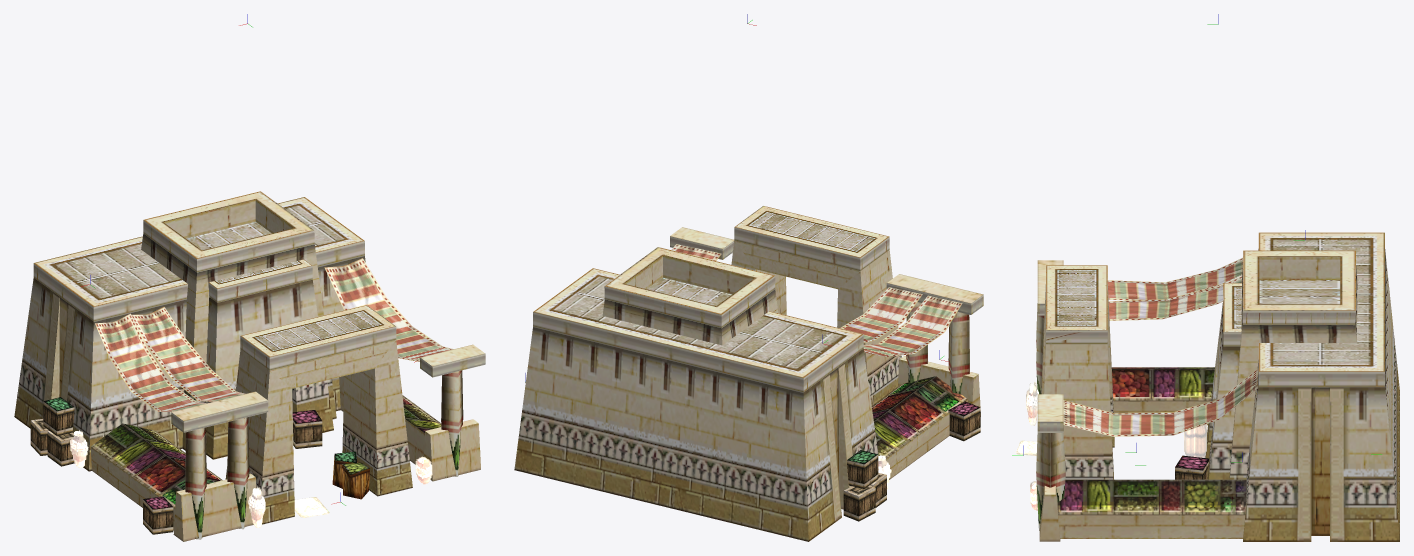
Rendered from mythic.glb.
3 views of the same model, side by side, from view 1: azimuth 30°, elevation 25°; view 2: azimuth 150°, elevation 25°; view 3: azimuth 270°, elevation 25° (orthographic). The views are drawn at different scales.
Visible parts, largest first — view 1: building e market age4Model; view 2: building e market age4Model; view 3: building e market age4Model.
Boxes of the visible parts, x1,y1,x2,y2 form: building e market age4Model: (14,191,485,541); building e market age4Model: (514,206,983,541); building e market age4Model: (1015,232,1399,541).
Bounding box in the file's own units: 8.56 × 11.04 × 8.56.
Materials: 7 (6 with a texture image).
